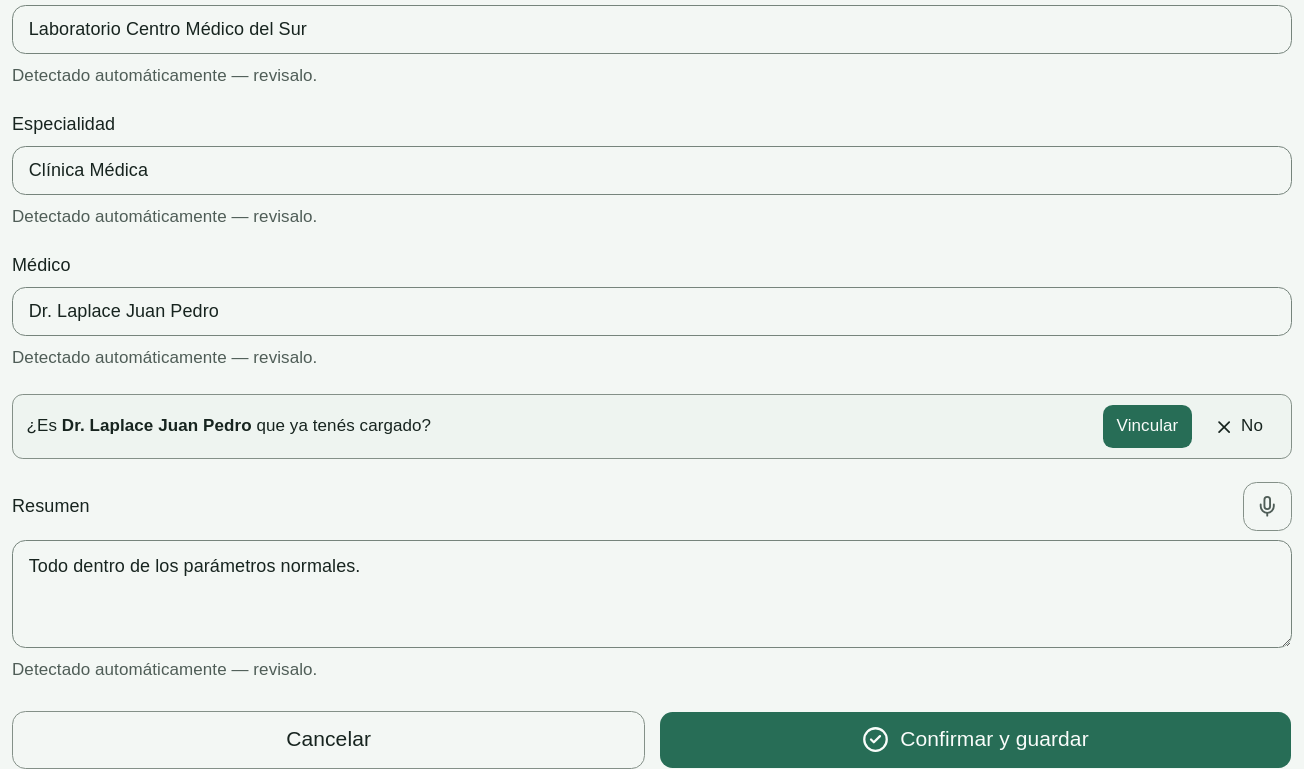
Test: FormularioRevision — «Vincular» tiene que hacer algo visible › «No» esconde la franja SIN vincular: se guarda el nombre tal como vino
(page scrolled)
Step 1. Click the button "No" → (1239, 427), box x1=1200 y1=404 x2=1278 y2=449
(page scrolled)
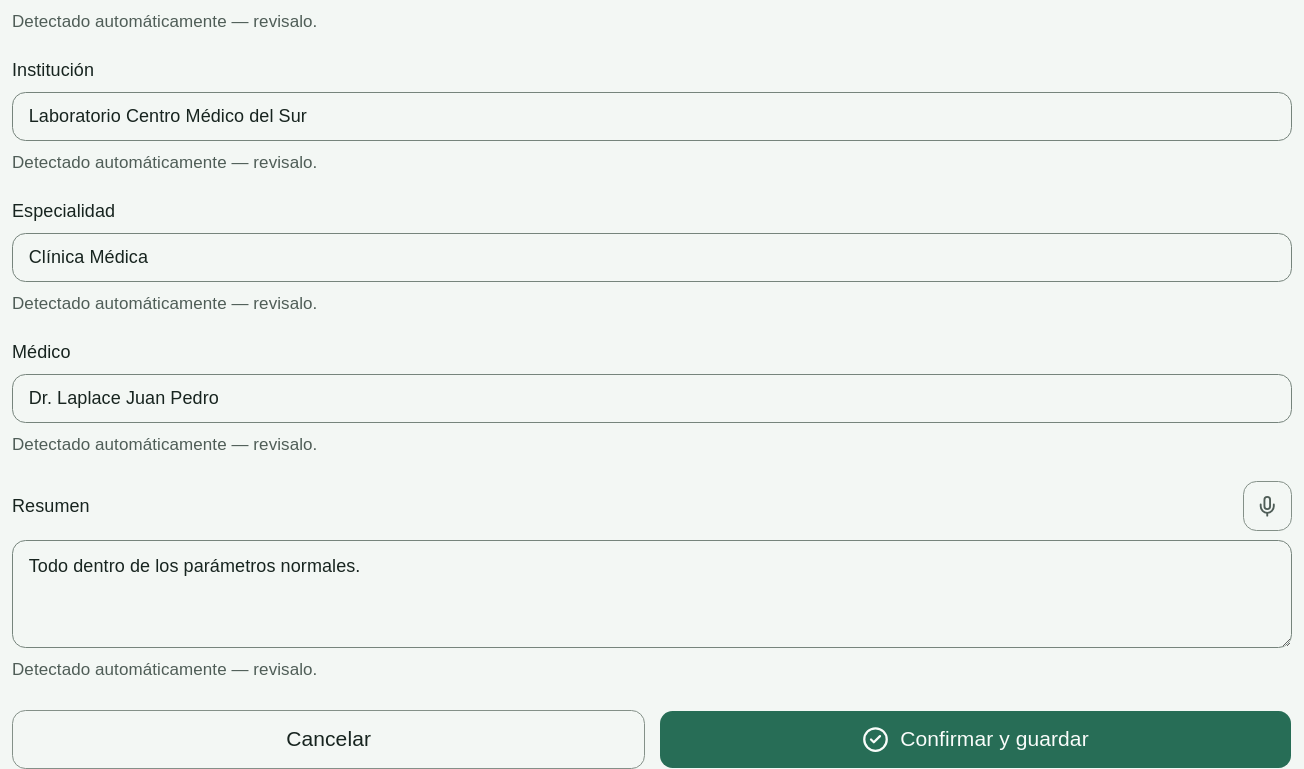
Check: the field labelled "Médico" holds "Dr. Laplace Juan Pedro", box x1=12 y1=374 x2=1292 y2=423
Check: the text "que ya tenés cargado" is gone
